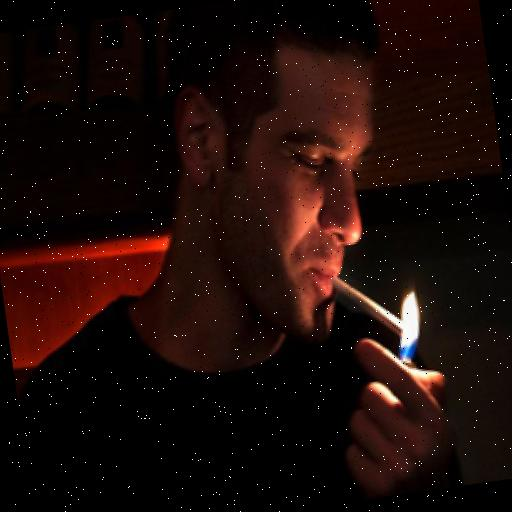dataset-deteksi-merokok: (270, 110, 459, 373)
